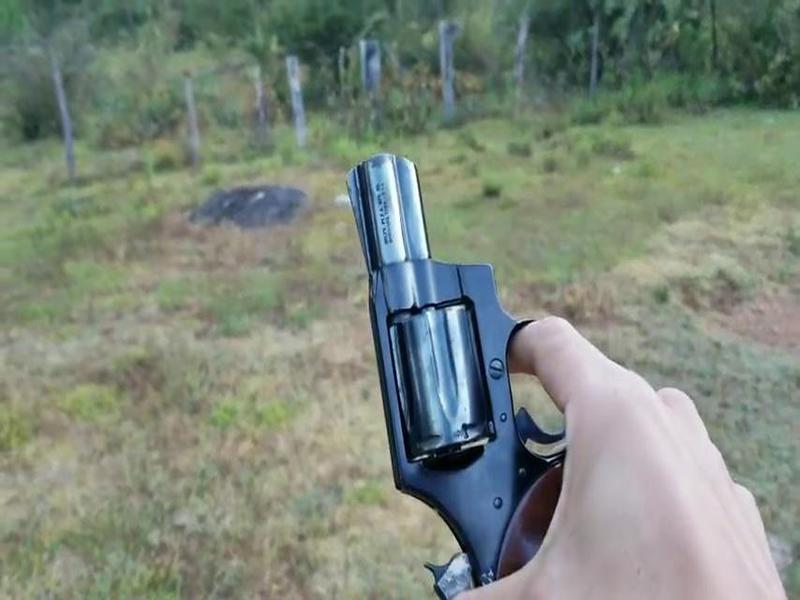Revolver: (350, 139, 596, 583)
